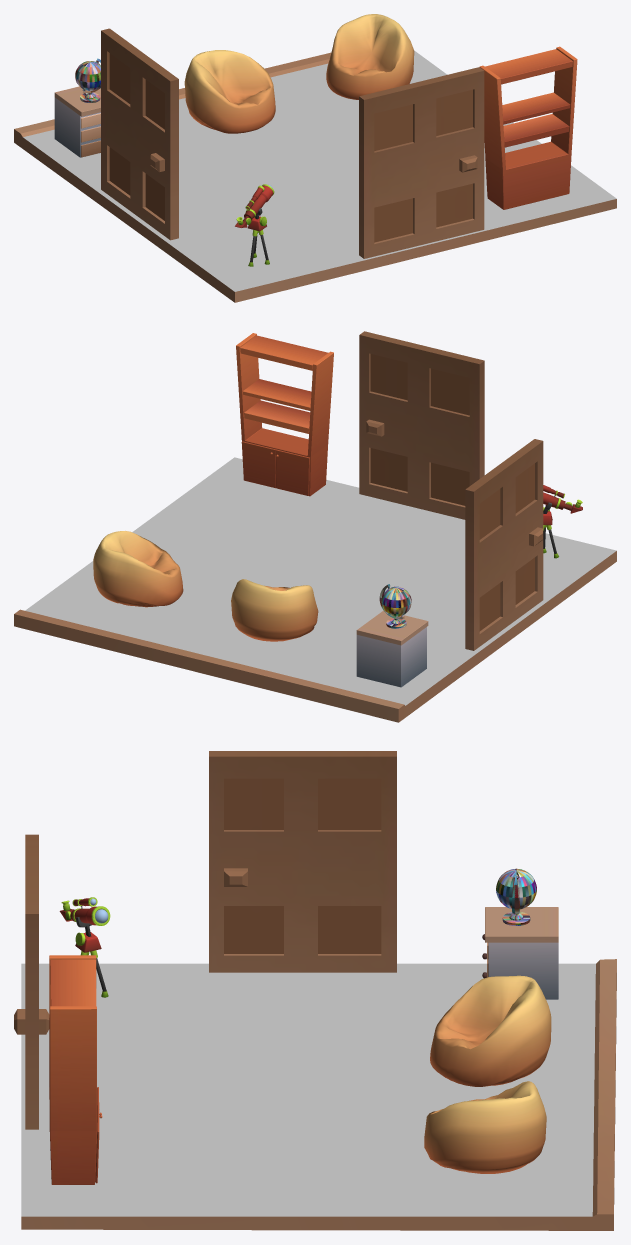
The model's file is LIBRERIA.fbx.
3 renders of one model, top to bottom at view 1: azimuth 30°, elevation 25°; view 2: azimuth 150°, elevation 25°; view 3: azimuth 270°, elevation 25°, orthographic. The views are drawn at different scales.
Parts seen in each view (by area): view 1: suelo7, puerta22, puerta23, mueble_estanteria1, fombra6, puf4, puf3, mueble2, telescopa1; view 2: suelo7, puerta22, puerta23, mueble_estanteria1, fombra6, puf3, mueble2, puf4, telescopa1; view 3: suelo7, puerta23, fombra6, mueble_estanteria1, puf4, puf3, mueble2, puerta22, telescopa1.
Part boxes in pixels (x1,y1,x2,y2): suelo7: (14, 50, 616, 302); puerta22: (359, 67, 484, 258); puerta23: (101, 28, 178, 240); mueble_estanteria1: (479, 46, 577, 209); fombra6: (179, 68, 413, 170); puf4: (184, 50, 275, 133); puf3: (326, 14, 414, 99); mueble2: (54, 58, 100, 157); telescopa1: (235, 184, 274, 266); suelo7: (14, 457, 616, 722); puerta22: (359, 331, 484, 519); puerta23: (465, 439, 543, 650); mueble_estanteria1: (236, 333, 333, 496); fombra6: (79, 539, 372, 653); puf3: (93, 531, 183, 607); mueble2: (356, 584, 428, 687); puf4: (231, 579, 318, 641); telescopa1: (543, 485, 582, 558); suelo7: (21, 959, 616, 1230); puerta23: (209, 751, 396, 972); fombra6: (316, 1041, 557, 1176); mueble_estanteria1: (49, 955, 102, 1184); puf4: (430, 975, 551, 1086); puf3: (424, 1081, 546, 1173); mueble2: (482, 868, 558, 999); puerta22: (14, 834, 49, 1129); telescopa1: (59, 897, 110, 997).
Size of the model in its own units: 836 by 351 by 832.
